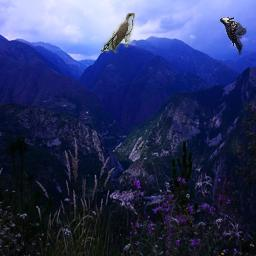Cuckoo: (101, 13, 135, 53)
Woodpecker: (220, 15, 247, 55)
